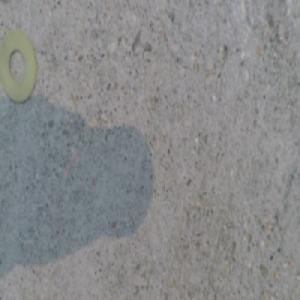Washer: (2, 33, 36, 105)
